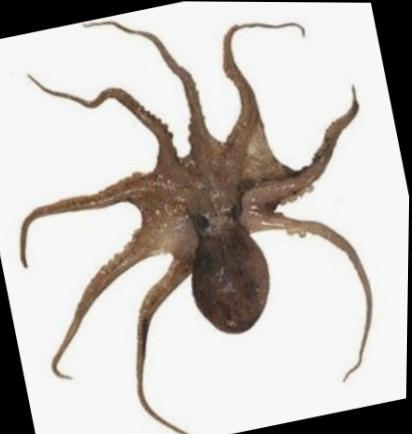Cephalopod: (21, 19, 374, 434)
